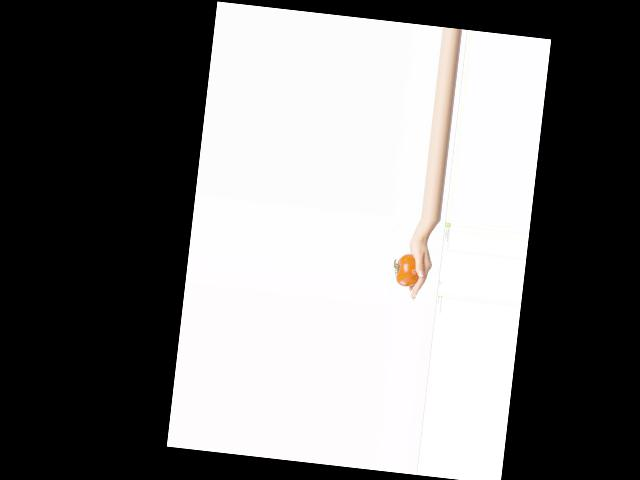tomato: (395, 253, 421, 287)
